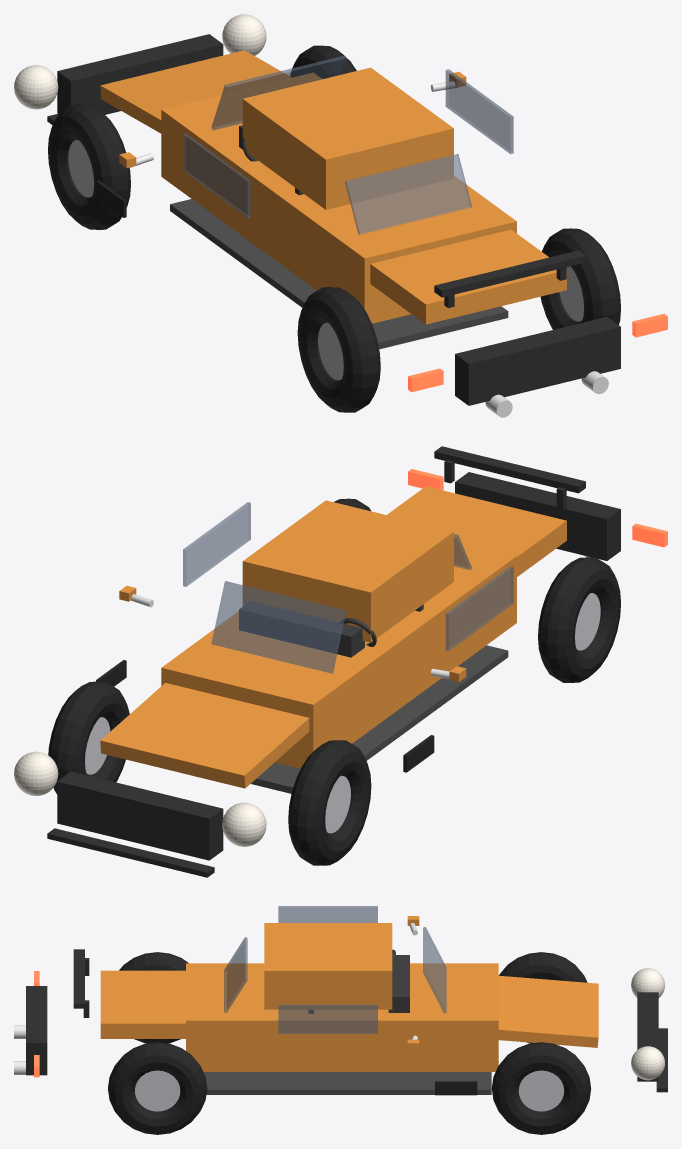
File: game_sports_car.fbx
3 views of the same model, one above another, from view 1: azimuth 30°, elevation 25°; view 2: azimuth 150°, elevation 25°; view 3: azimuth 270°, elevation 25° (orthographic). The views are drawn at different scales.
Visible parts, largest first — view 1: Body_Main, Body_Cabin, Body_RearDeck, Bumper_Rear, Tire_RL, Body_Hood, RearWindow, Tire_FL, Underbody, Bumper_Front, Tire_RR, Windshield (+12 smaller); view 2: Body_Main, Body_Cabin, Body_Hood, Bumper_Front, Windshield, Body_RearDeck, Tire_FL, Tire_RL, Bumper_Rear, Tire_FR, Underbody, Dashboard (+10 smaller); view 3: Body_Main, Body_Cabin, Body_Hood, Underbody, Body_RearDeck, Tire_FR, Tire_RR, SideWindow_R, Bumper_Rear, Tire_FL, SideWindow_L, Rim_RR (+11 smaller).
Part boxes in pixels (left/top/right/bottom): Body_Main: left=161, top=72, right=516, bottom=323; Body_Cabin: left=242, top=67, right=453, bottom=209; Body_RearDeck: left=370, top=229, right=566, bottom=324; Bumper_Rear: left=455, top=317, right=620, bottom=405; Tire_RL: left=297, top=287, right=380, bottom=412; Body_Hood: left=100, top=50, right=291, bottom=133; RearWindow: left=345, top=154, right=471, bottom=234; Tire_FL: left=48, top=104, right=130, bottom=229; Underbody: left=170, top=199, right=508, bottom=349; Bumper_Front: left=57, top=34, right=223, bottom=114; Tire_RR: left=540, top=228, right=620, bottom=329; Windshield: left=211, top=55, right=346, bottom=130; Body_Main: left=161, top=541, right=516, bottom=768; Body_Cabin: left=242, top=500, right=453, bottom=642; Body_Hood: left=100, top=683, right=309, bottom=788; Bumper_Front: left=57, top=771, right=223, bottom=860; Windshield: left=211, top=581, right=346, bottom=673; Body_RearDeck: left=387, top=486, right=566, bottom=576; Tire_FL: left=288, top=740, right=371, bottom=865; Tire_RL: left=538, top=557, right=620, bottom=682; Bumper_Rear: left=455, top=472, right=620, bottom=560; Tire_FR: left=48, top=681, right=129, bottom=794; Underbody: left=251, top=645, right=508, bottom=793; Dashboard: left=239, top=601, right=364, bottom=657; Body_Main: left=186, top=963, right=498, bottom=1071; Body_Cabin: left=264, top=923, right=392, bottom=1009; Body_Hood: left=498, top=975, right=598, bottom=1047; Underbody: left=203, top=1072, right=491, bottom=1094; Body_RearDeck: left=100, top=970, right=185, bottom=1038; Tire_FR: left=491, top=1042, right=591, bottom=1134; Tire_RR: left=108, top=1042, right=207, bottom=1134; SideWindow_R: left=278, top=1004, right=377, bottom=1033; Bumper_Rear: left=26, top=986, right=47, bottom=1075; Tire_FL: left=499, top=952, right=587, bottom=1043; SideWindow_L: left=278, top=906, right=377, bottom=922; Rim_RR: left=135, top=1070, right=180, bottom=1111.
Bounding box in the file's own units: 2.12 × 1.1 × 4.6.
